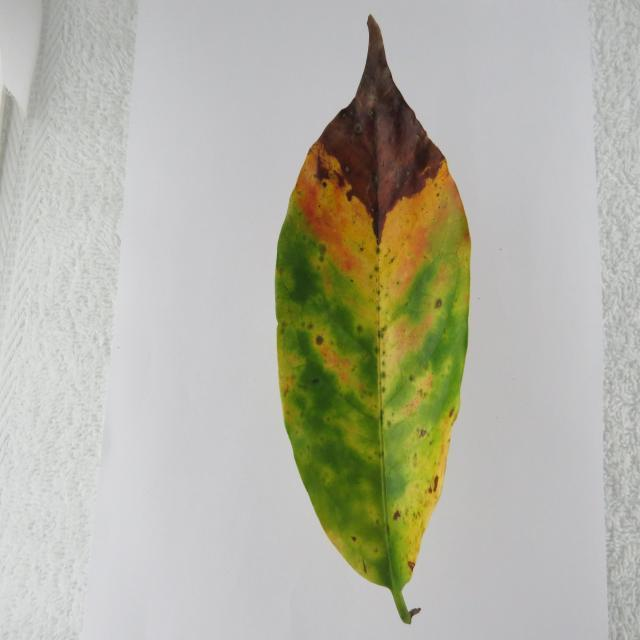DeficienciaNutricional-Fosforo: (275, 17, 471, 623)
